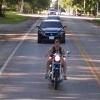Motorcycle: (42, 46, 78, 90)
